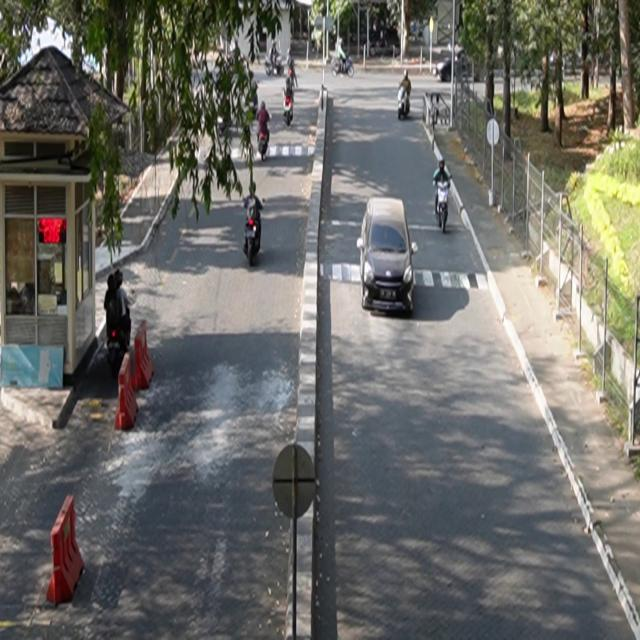car: (357, 197, 419, 314)
